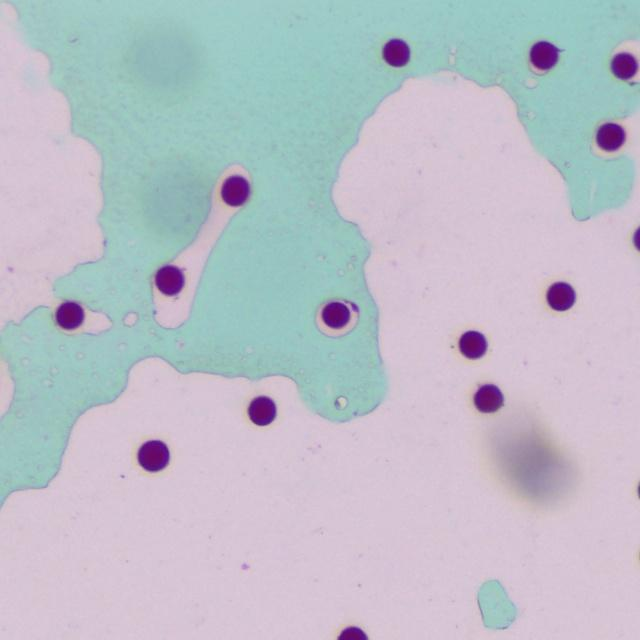viable: (138, 440, 169, 471), (530, 41, 559, 70), (221, 176, 249, 206), (155, 265, 183, 295), (247, 396, 275, 425), (459, 330, 487, 358), (596, 123, 625, 150), (474, 384, 503, 411), (322, 301, 350, 328), (547, 282, 574, 310), (56, 301, 83, 329), (611, 52, 637, 79), (383, 39, 409, 66), (337, 626, 367, 639), (633, 227, 639, 250)
